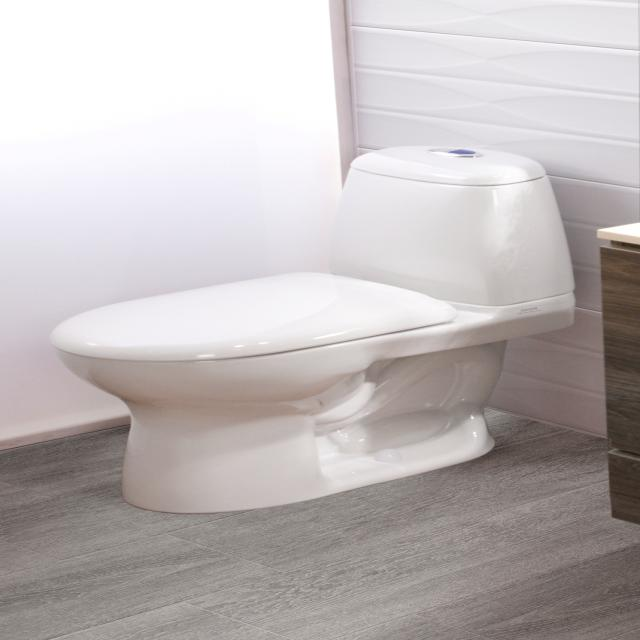toilet: (50, 140, 589, 519)
